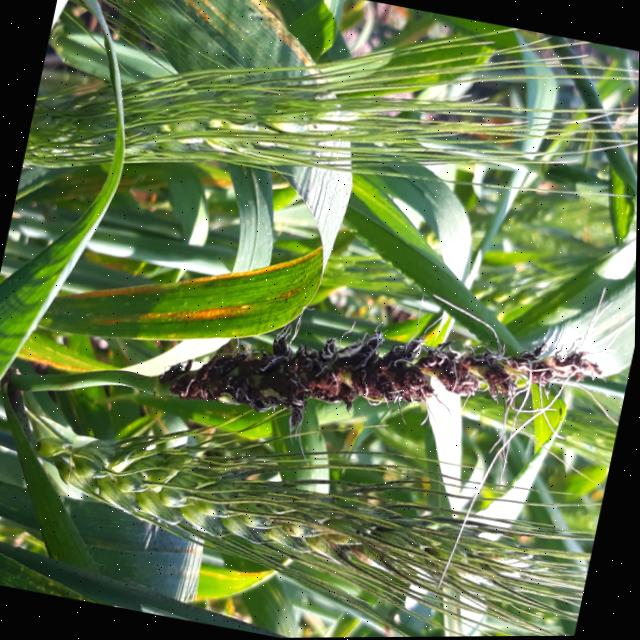loose_charred: (108, 184, 594, 565), (106, 403, 575, 639)
yellow_rust: (62, 136, 379, 392), (40, 0, 395, 133)
